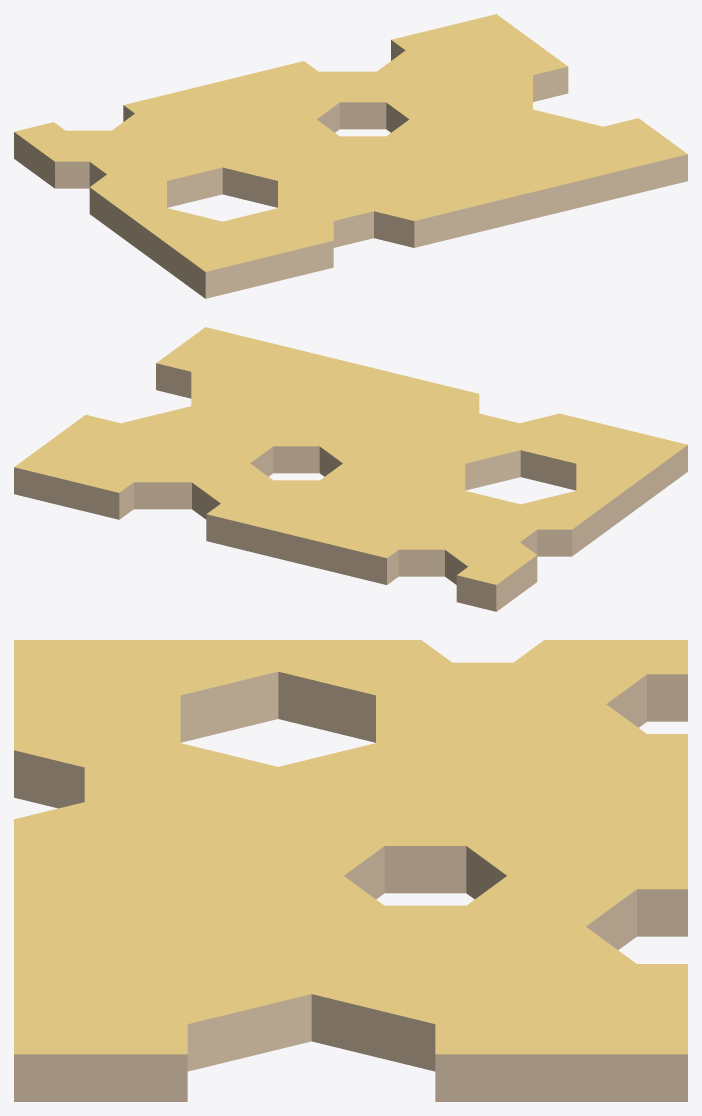
The model's file is cheese_cut.glb.
3 renders of one model, top to bottom at view 1: azimuth 30°, elevation 25°; view 2: azimuth 150°, elevation 25°; view 3: azimuth 270°, elevation 25°, orthographic. The views are drawn at different scales.
Parts seen in each view (by area): view 1: cheeseCut; view 2: cheeseCut; view 3: cheeseCut.
Boxes of the visible parts, left/top/right/bottom form: cheeseCut: left=14, top=14, right=687, bottom=298; cheeseCut: left=14, top=327, right=687, bottom=611; cheeseCut: left=14, top=640, right=687, bottom=1101.
Size of the model in its own units: 0.384 by 0.0205 by 0.264.
